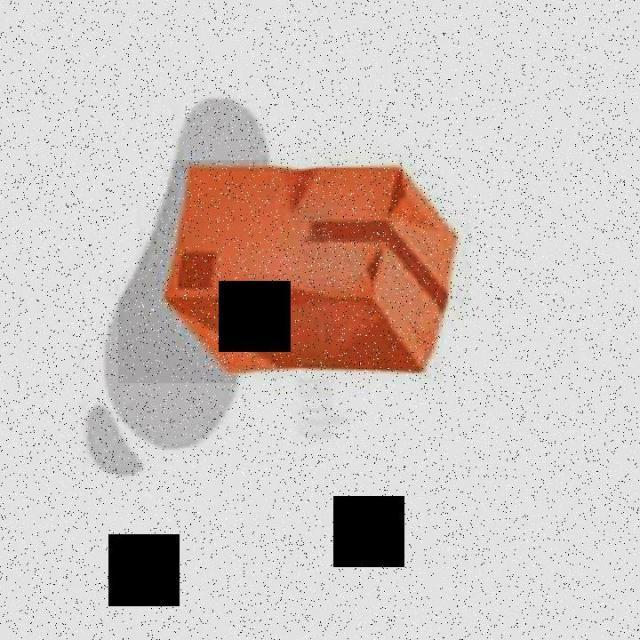box: (118, 160, 471, 383)
